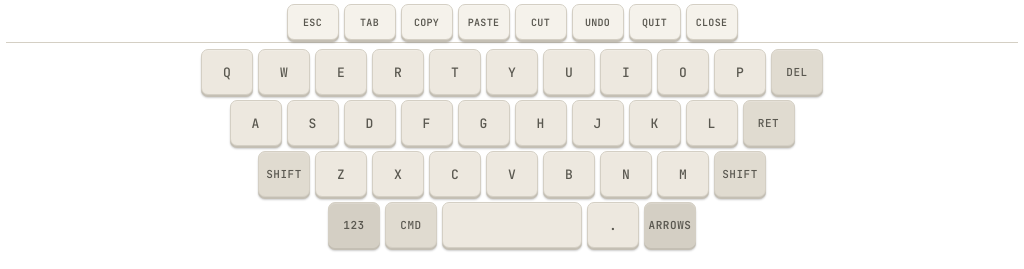
VirtualKeyboard › mode switching › should switch to numbers mode when 123 is pressed
Press the mouse on the button "123": (354, 225) [328, 202, 380, 248]
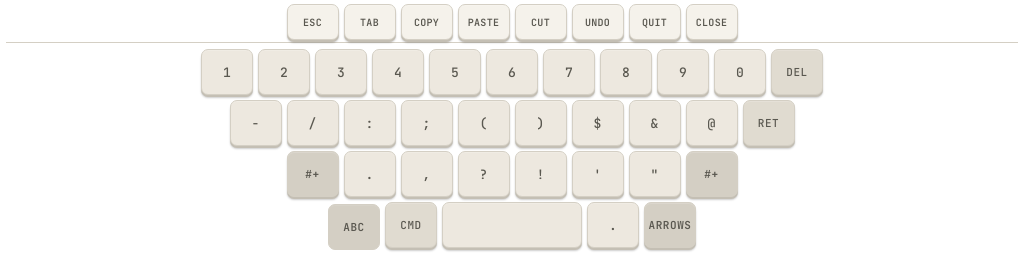
expect the button "1" is shown: met, box [201, 49, 253, 95]
expect the button "2" is shown: met, box [258, 49, 310, 95]
expect the button "0" is shown: met, box [714, 49, 766, 95]
